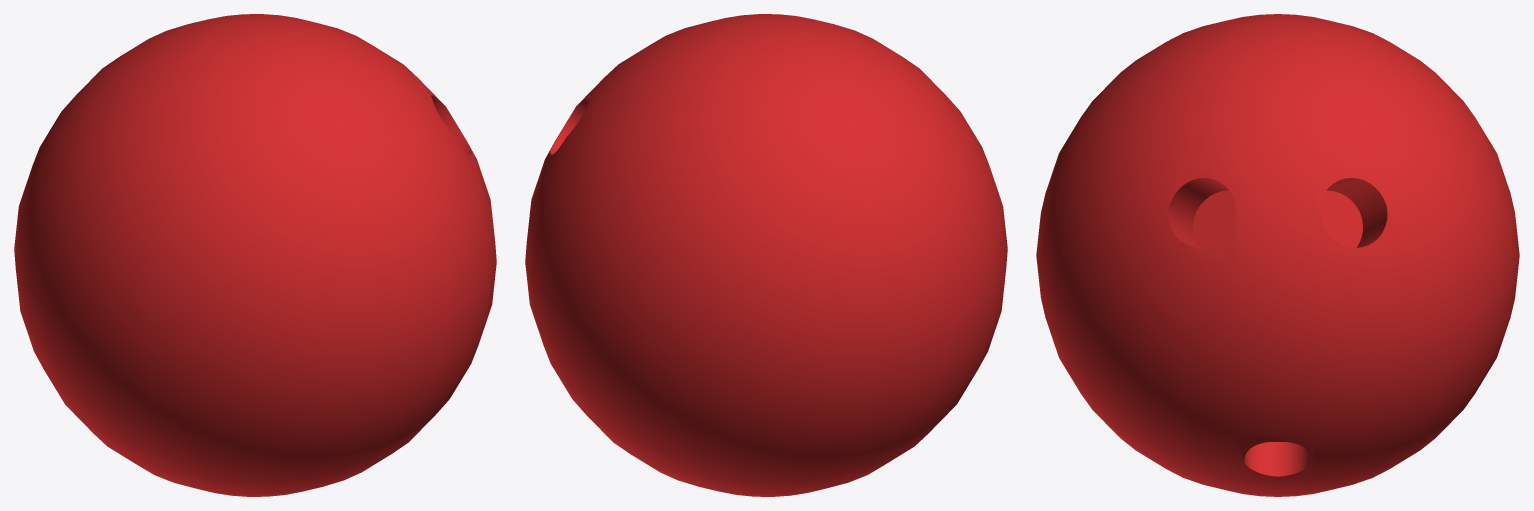
The model's file is bowling_ball.fbx.
3 renders of one model, left to right at view 1: azimuth 30°, elevation 25°; view 2: azimuth 150°, elevation 25°; view 3: azimuth 270°, elevation 25°, orthographic.
Parts seen in each view (by area): view 1: bowling_ball; view 2: bowling_ball; view 3: bowling_ball.
Part boxes in pixels (box(x1,y1,x2,y2)): bowling_ball: box(14, 14, 496, 496); bowling_ball: box(525, 14, 1007, 496); bowling_ball: box(1036, 14, 1519, 496).
Bounding box in the file's own units: 21 × 21 × 21.
